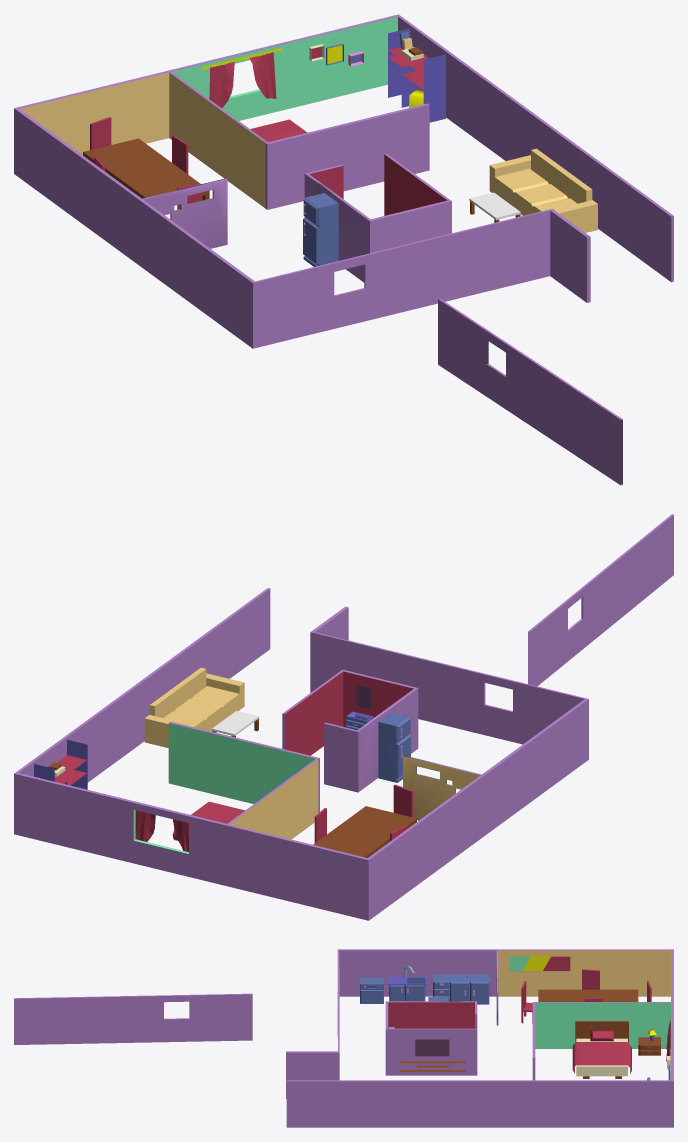
File: house_test.obj
3 views of the same model, one above another, from view 1: azimuth 30°, elevation 25°; view 2: azimuth 150°, elevation 25°; view 3: azimuth 270°, elevation 25° (orthographic). The views are drawn at different scales.
Parts seen in each view (by area): view 1: house1; view 2: house1; view 3: house1.
Part boxes in pixels (bbox=[...]): house1: bbox=[14, 14, 673, 485]; house1: bbox=[14, 514, 673, 920]; house1: bbox=[14, 949, 673, 1127].
Bounding box in the file's own units: 153 × 25.68 × 322.
